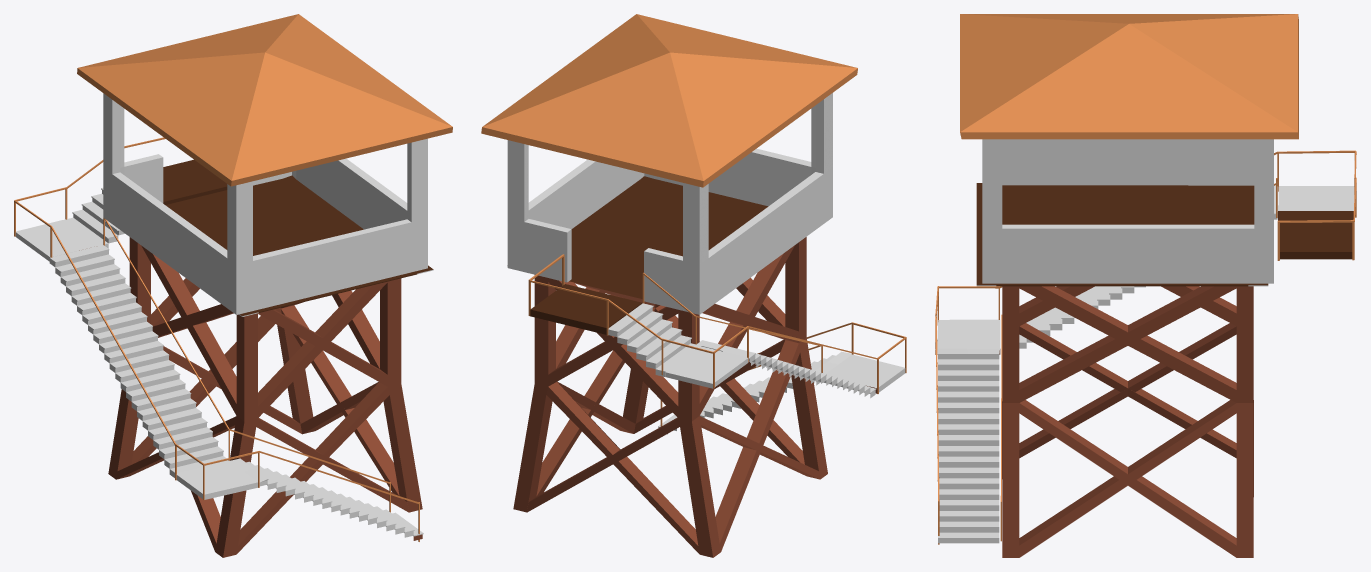
The model's file is watchtower2.fbx.
3 renders of one model, left to right at view 1: azimuth 30°, elevation 25°; view 2: azimuth 150°, elevation 25°; view 3: azimuth 270°, elevation 25°, orthographic. The views are drawn at different scales.
Visible parts, largest first — view 1: Roof, Legs, MidStairs.001, Walls, Floor, Walls.001, Walls.004, Pillar 4, BottomStairs, Pillar3, Pillar1, Porch (+7 smaller); view 2: Legs, Roof, Floor, Walls.001, Walls.004, Walls, Pillar1, TopStairs, Porch, Pillar2, Walls.003, Walls.002 (+7 smaller); view 3: Roof, Legs, Walls.004, BottomStairs, Floor, Walls.001, Porch, Pillar3, Pillar2, MidStairs, MidStairs.001, TopPlatform (+2 smaller).
Boxes of the visible parts, x1,y1,x2,y2 form: Roof: (77, 14, 452, 186); Legs: (108, 237, 422, 557); MidStairs.001: (49, 245, 228, 477); Walls: (253, 219, 411, 310); Floor: (165, 175, 433, 316); Walls.001: (112, 172, 227, 307); Walls.004: (296, 158, 407, 229); Pillar 4: (227, 181, 252, 314); BottomStairs: (230, 458, 423, 540); Pillar3: (407, 138, 427, 271); Pillar1: (103, 93, 124, 223); Porch: (163, 159, 227, 204); Legs: (513, 237, 827, 557); Roof: (481, 14, 857, 187); Floor: (507, 176, 768, 298); Walls.001: (708, 172, 823, 307); Walls.004: (528, 159, 640, 228); Walls: (653, 148, 811, 206); Pillar1: (683, 183, 708, 314); TopStairs: (608, 303, 700, 376); Porch: (530, 284, 642, 334); Pillar2: (507, 140, 528, 271); Walls.003: (524, 219, 571, 282); Walls.002: (644, 248, 682, 310); Roof: (960, 14, 1298, 139); Legs: (1002, 286, 1253, 557); Walls.004: (1002, 224, 1254, 283); BottomStairs: (935, 348, 999, 543); Floor: (976, 183, 1268, 286); Walls.001: (1002, 139, 1254, 185); Porch: (1278, 211, 1353, 259); Pillar3: (982, 139, 1002, 283); Pillar2: (1254, 139, 1273, 283); MidStairs: (937, 319, 1000, 354); MidStairs.001: (1019, 185, 1277, 348); TopPlatform: (1278, 186, 1354, 205).
Bounding box in the file's own units: 2945 × 4786 × 3771.
